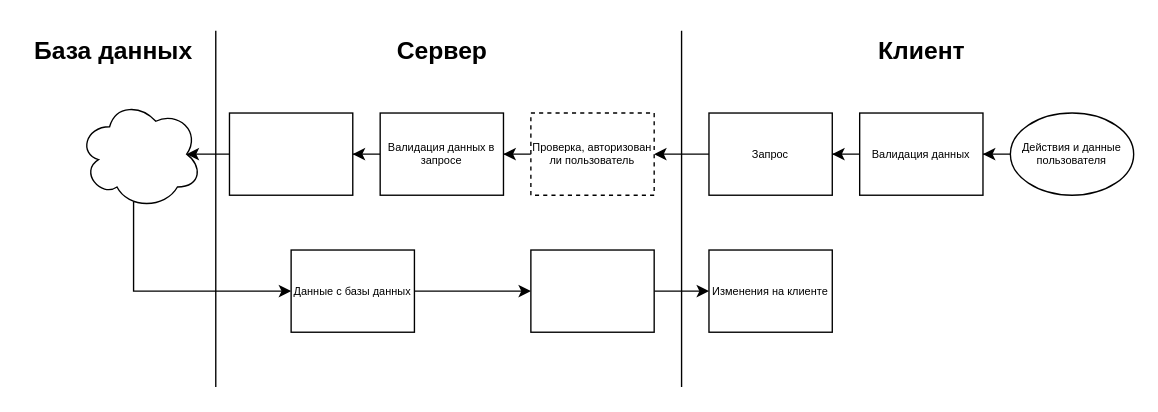
Some shapes in this 1158 by 412 pixel diagram are drawn without their labels. Here are the shapes that lost their labels. From the top down, the box of each, then its label:
(77, 98, 202, 209): Взаимодействие с базой данных
(228, 112, 353, 195): Обработка данных
(530, 249, 654, 332): Формирование ответа
